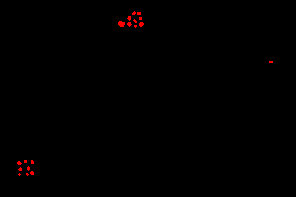Target: (118, 21, 125, 27), (127, 22, 132, 27), (139, 22, 144, 27), (127, 16, 131, 21), (17, 161, 22, 165), (132, 11, 136, 15), (133, 19, 137, 23), (18, 167, 22, 171), (30, 171, 34, 175), (27, 166, 30, 171), (137, 12, 141, 15), (31, 160, 34, 164), (139, 17, 142, 20), (134, 25, 137, 28), (24, 160, 27, 163), (18, 173, 21, 176), (26, 173, 29, 176), (269, 61, 273, 63)
